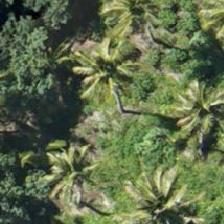coconut_tree: (77, 57, 167, 147), (102, 0, 192, 74), (111, 164, 201, 223), (165, 65, 223, 155), (80, 0, 170, 52)
